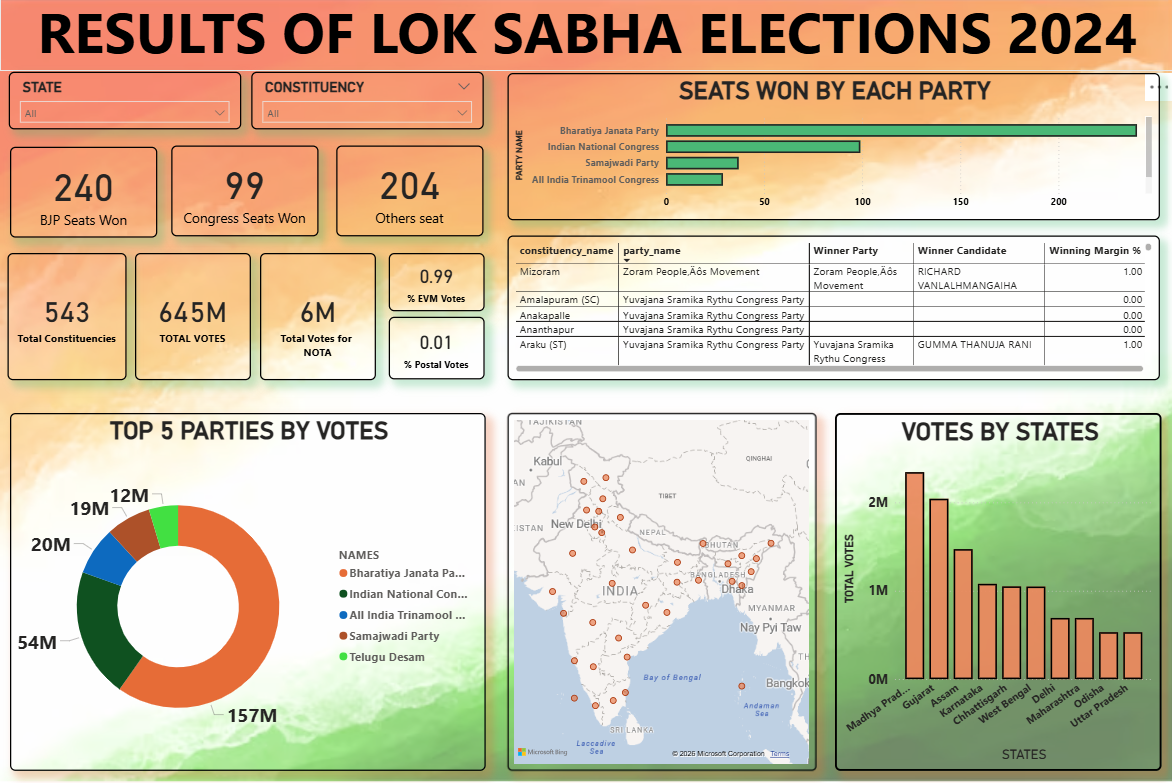

What the dashboard file says about the page in this screenshot:
{"tool":"powerbi","page":{"name":"DASHBOARD","canvas":[1500,1032],"ordinal":0},"visuals":[{"type":"textbox","box":[0,0,1499.7,107.2],"z":0},{"type":"slicer","fields":{"Values":["election_result_2024.state_name"]},"box":[11.7,107.2,296.6,73.7],"z":1000},{"type":"slicer","fields":{"Values":["election_result_2024.constituency_name"]},"box":[320,107.2,296.6,73.7],"z":2000},{"type":"card","fields":{"Values":["Table.BJP Seats Won"]},"box":[12,202,188,116],"z":3000},{"type":"card","fields":{"Values":["Table.Congress Seats Won"]},"box":[218,201.1,187.7,115.6],"z":4000},{"type":"card","fields":{"Values":["Table.Others seat"]},"box":[429,201.1,187.7,115.6],"z":5000},{"type":"card","fields":{"Values":["Table.Total Constituencies"]},"box":[10,338,152,162],"z":6000},{"type":"card","fields":{"Values":["Table.TOTAL VOTES"]},"box":[172,338,148,162],"z":7000},{"type":"card","fields":{"Values":["Table.Total Votes for NOTA"]},"box":[332,338,148,162],"z":8000},{"type":"card","fields":{"Values":["Table.% EVM Votes"]},"box":[496,338,122,74],"z":9000},{"type":"card","fields":{"Values":["Table.% Postal Votes"]},"box":[496,420,122,80],"z":10000},{"type":"barChart","title":"SEATS WON BY EACH PARTY","fields":{"Category":["election_result_2024.party_name"],"Y":["Table.Seats Won"]},"box":[648.2,108,832.9,188.2],"z":11000},{"type":"tableEx","fields":{"Values":["election_result_2024.constituency_name","election_result_2024.party_name","Table.Winner Party","Table.Winner Candidate","Table.Winning Margin %"]},"box":[648.2,315.4,832.9,184.7],"z":12000},{"type":"map","fields":{"Category":["election_result_2024.state_name"]},"box":[648.5,543,394.3,456.5],"z":13000},{"type":"donutChart","title":"TOP 5 PARTIES BY VOTES","fields":{"Y":["Table.TOTAL VOTES BY PARTY"],"Category":["election_result_2024.party_name"]},"box":[12.1,543,607,456.5],"z":14000},{"type":"columnChart","title":" VOTES BY STATES","fields":{"Category":["election_result_2024.state_name"],"Y":["Table.TOTAL VOTES"]},"box":[1065.2,543,416.7,456.5],"z":15000}]}

Visuals, with their boxes in screenshot pixels (x1, y1, x2, y2), scaled from the page's 1500x1032 canvas onto the 1172x783 screenshot:
textbox: x1=0 y1=0 x2=1171 y2=81
slicer - election_result_2024.state_name: x1=9 y1=81 x2=241 y2=137
slicer - election_result_2024.constituency_name: x1=250 y1=81 x2=482 y2=137
card - Table.BJP Seats Won: x1=9 y1=153 x2=156 y2=241
card - Table.Congress Seats Won: x1=170 y1=153 x2=317 y2=240
card - Table.Others seat: x1=335 y1=153 x2=482 y2=240
card - Table.Total Constituencies: x1=8 y1=256 x2=127 y2=379
card - Table.TOTAL VOTES: x1=134 y1=256 x2=250 y2=379
card - Table.Total Votes for NOTA: x1=259 y1=256 x2=375 y2=379
card - Table.% EVM Votes: x1=388 y1=256 x2=483 y2=313
card - Table.% Postal Votes: x1=388 y1=319 x2=483 y2=379
"SEATS WON BY EACH PARTY" barChart: x1=506 y1=82 x2=1157 y2=225
tableEx - election_result_2024.constituency_name x election_result_2024.party_name: x1=506 y1=239 x2=1157 y2=379
map - election_result_2024.state_name: x1=507 y1=412 x2=815 y2=758
"TOP 5 PARTIES BY VOTES" donutChart: x1=9 y1=412 x2=484 y2=758
" VOTES BY STATES" columnChart: x1=832 y1=412 x2=1158 y2=758
